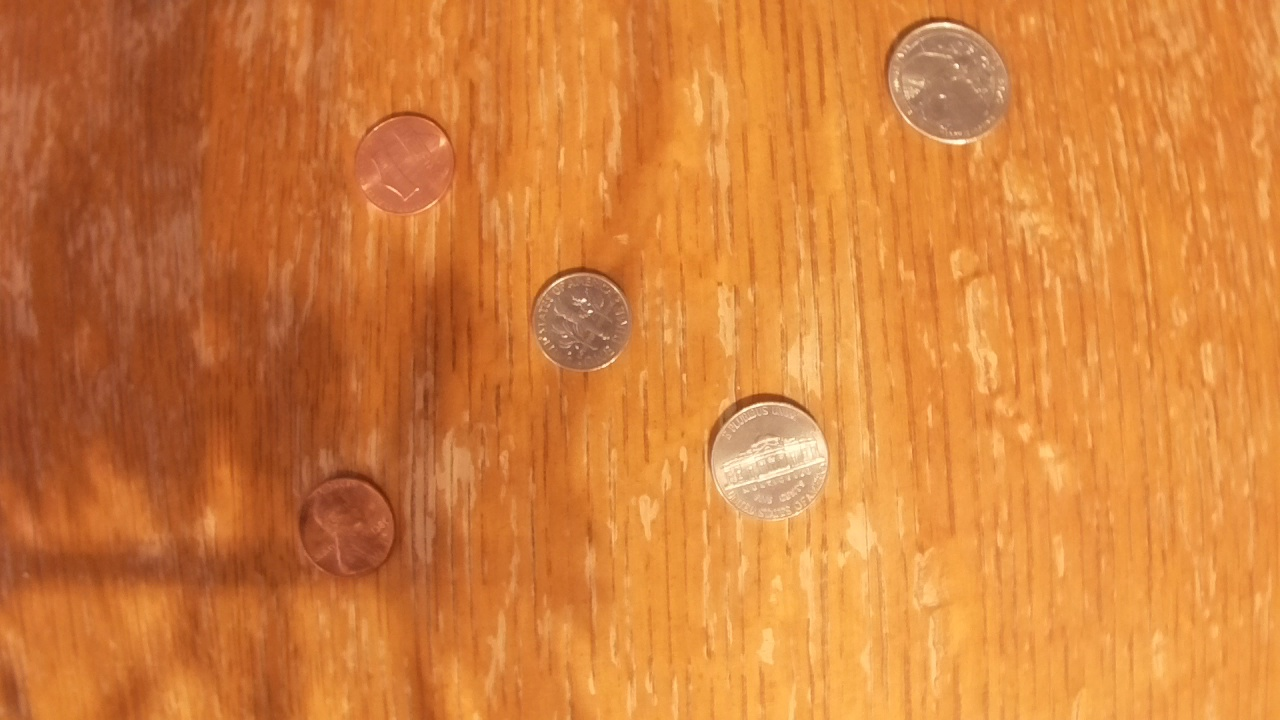dime: (531, 268, 632, 373)
nickel: (710, 396, 829, 518)
penny: (353, 111, 455, 215), (296, 471, 395, 576)
quarter: (886, 18, 1010, 148)
